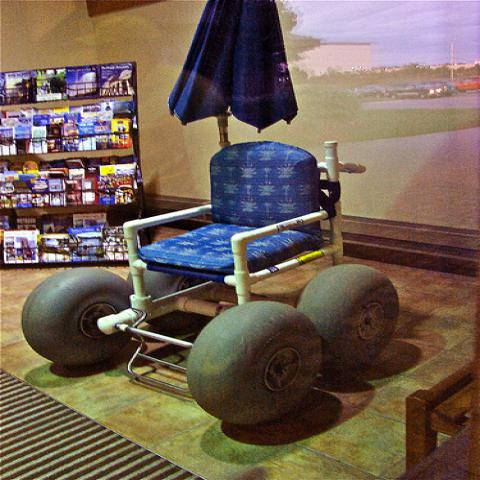car: (383, 83, 443, 100), (453, 75, 479, 94), (353, 85, 383, 99)
